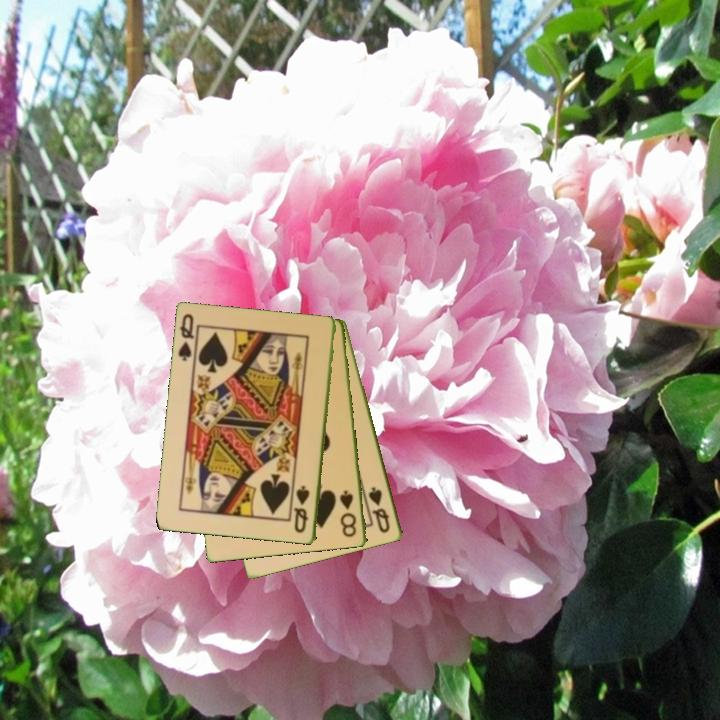8s: (337, 487, 360, 540)
Qs: (365, 484, 393, 536), (175, 311, 201, 366), (291, 483, 313, 536)
